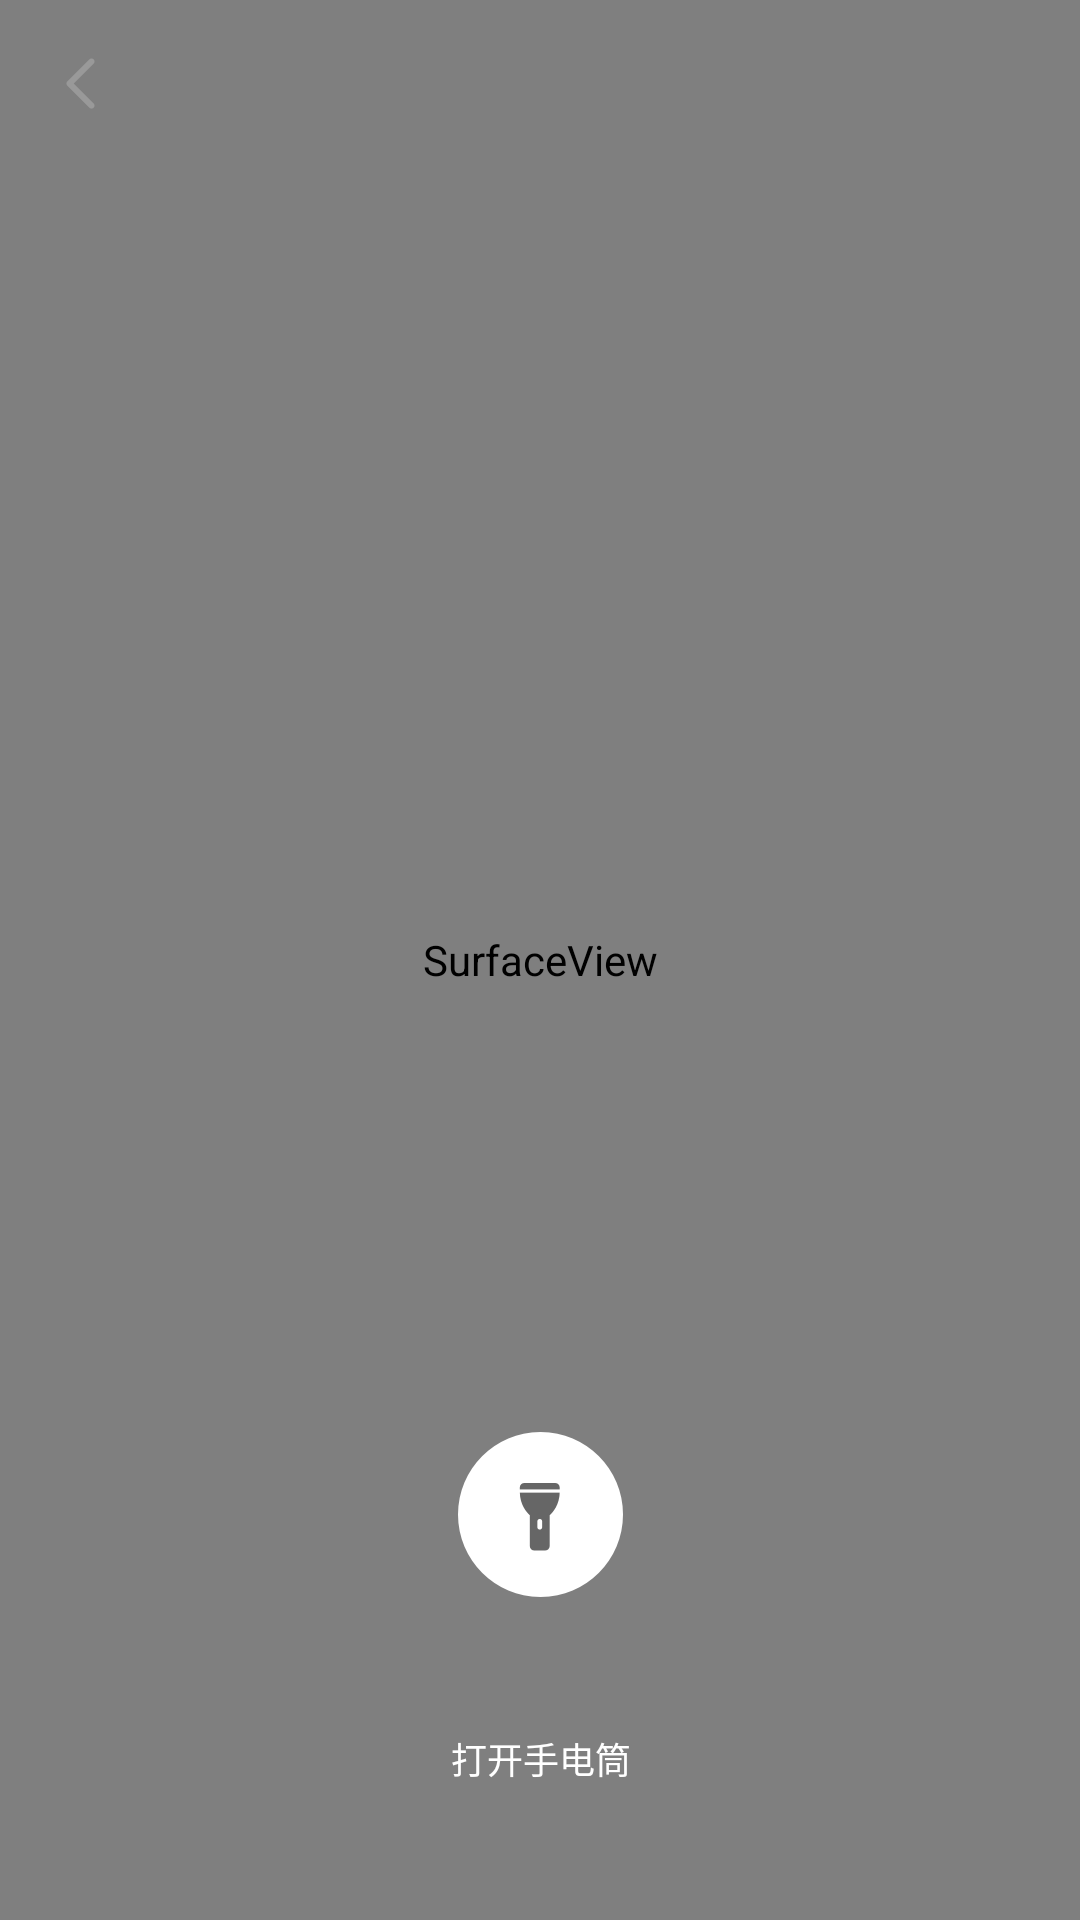

Where icons sit on this 1080px x 1920px app screen, as (x1, y1, x2, y2):
open flash: (458, 1432, 623, 1597)
pro detail back: (67, 59, 94, 108)
